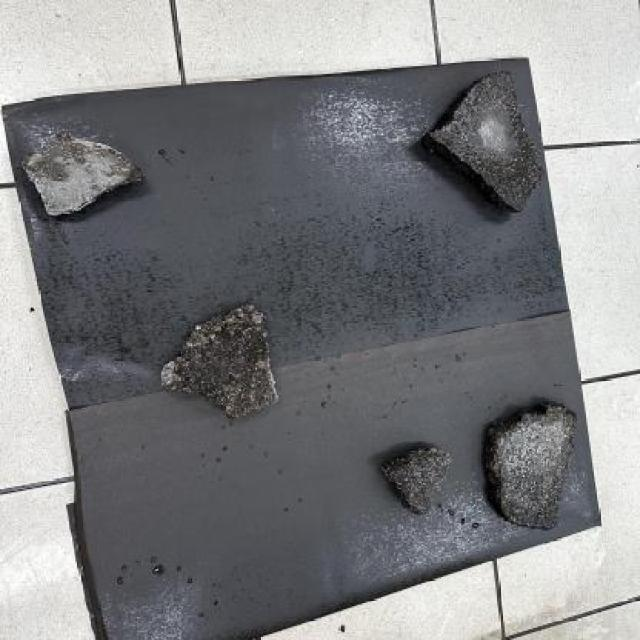Road Debris: (183, 352, 272, 417), (466, 146, 543, 208), (39, 130, 132, 173), (386, 448, 448, 512), (493, 474, 564, 526)
